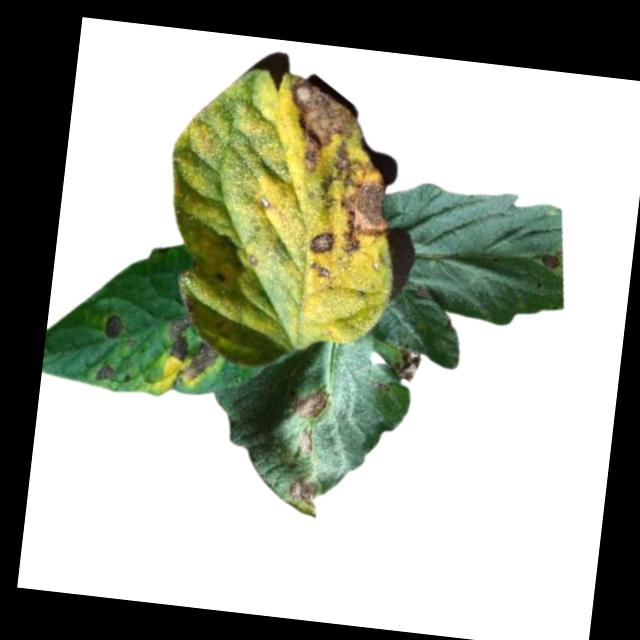Early_blight: (313, 138, 398, 259), (281, 77, 360, 177), (161, 314, 223, 387), (384, 345, 422, 383), (293, 387, 329, 422), (287, 480, 319, 508), (98, 312, 124, 344), (307, 231, 335, 255), (91, 361, 115, 381), (539, 252, 561, 272)
